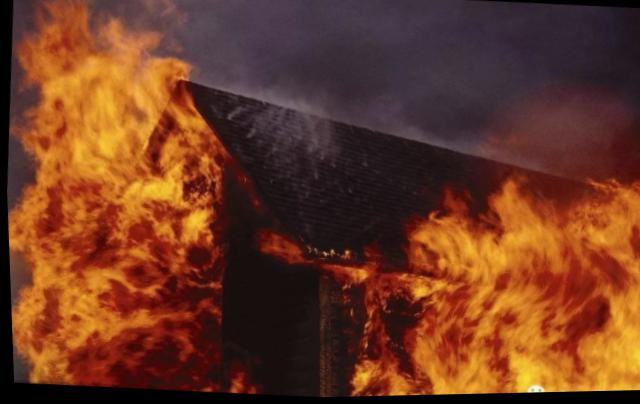fire: (5, 181, 223, 269), (8, 284, 222, 368), (38, 48, 188, 163), (407, 284, 532, 394), (522, 288, 639, 393), (555, 177, 639, 302), (483, 177, 566, 293), (24, 253, 222, 301), (21, 350, 220, 394), (409, 211, 497, 289), (157, 115, 221, 212), (14, 0, 93, 76), (28, 155, 162, 196), (88, 10, 162, 58), (344, 351, 410, 395), (352, 283, 388, 351), (11, 105, 51, 158), (368, 271, 429, 297), (255, 233, 301, 262), (326, 261, 365, 285), (221, 362, 244, 392)
